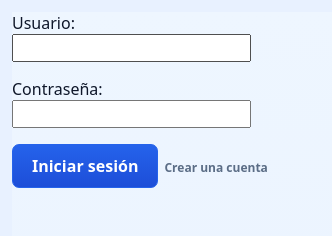
Scenario: LoginForm › displays authentication errors and allows retrying
The width and height of the screenshot is (332, 236).
Type "ana" into the field labelled "Usuario:".
click(132, 48); type("ana")  # box [12, 34, 251, 62]
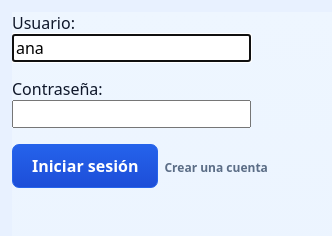
Type "wrong-password" into the password field labelled "Contraseña:".
click(132, 114); type("wrong-password")  # box [12, 100, 251, 128]
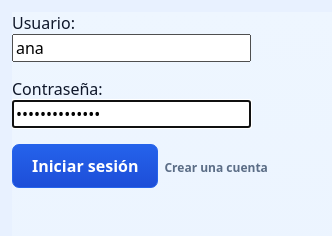
Click the button "Iniciar sesión".
click(85, 166)  # box [12, 144, 158, 188]
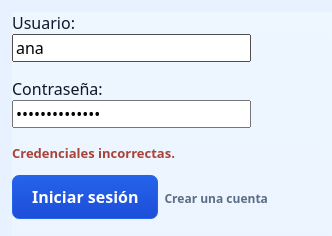
Expected: the button "Iniciar sesión" is enabled, [12, 175, 158, 219]
Expected: the message reads "Credenciales incorrectas.", [12, 144, 175, 162]
